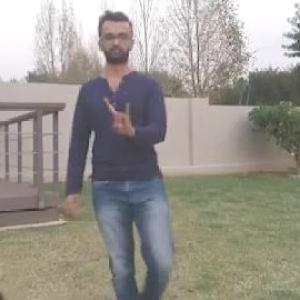takeoff-hand: (101, 90, 136, 136)
